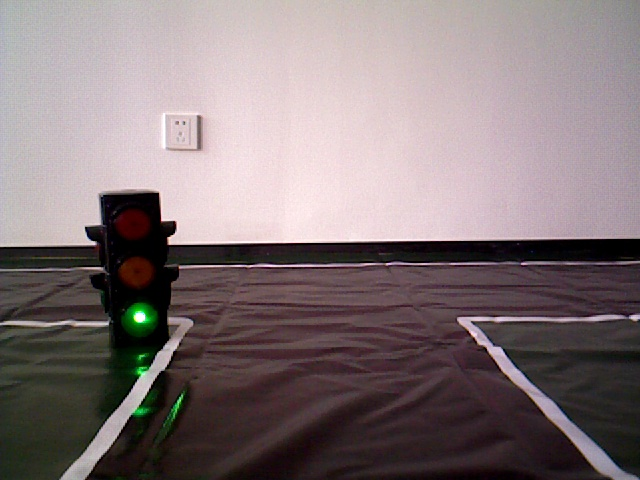green: (97, 202, 168, 334)
